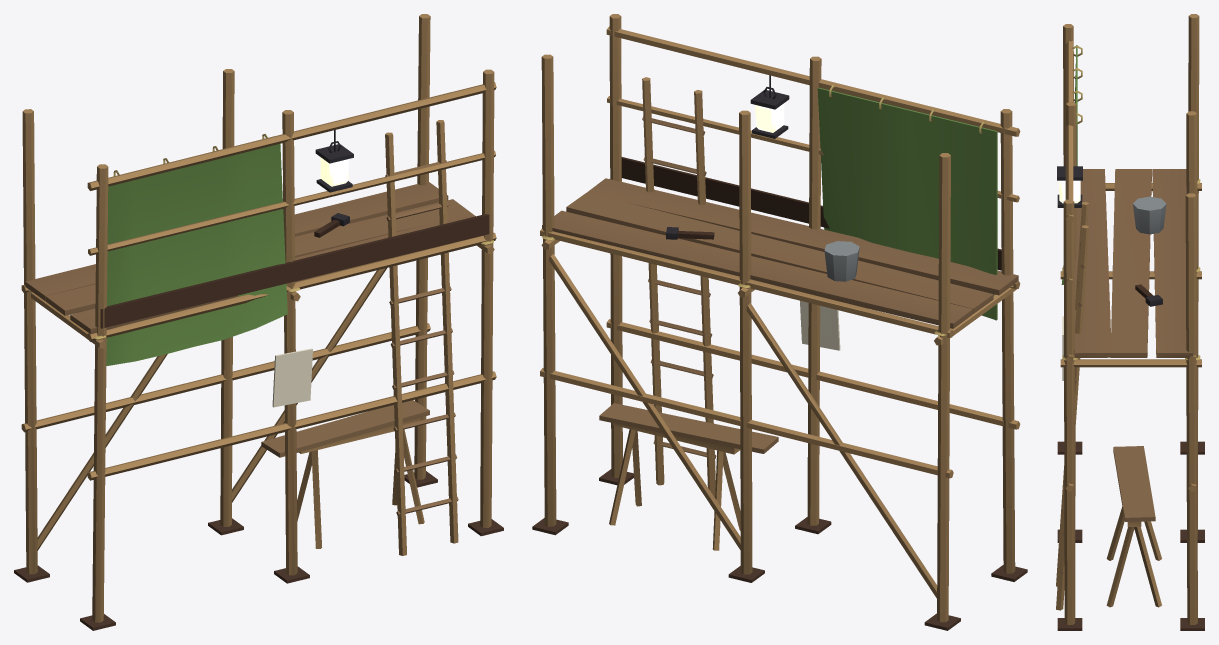
Rendered from scaffold_project.glb.
3 views of the same model, side by side, from view 1: azimuth 30°, elevation 25°; view 2: azimuth 150°, elevation 25°; view 3: azimuth 270°, elevation 25° (orthographic). The views are drawn at different scales.
Visible parts, largest first — view 1: scaffold_project, tarp, glow; view 2: scaffold_project, tarp, glow; view 3: scaffold_project, tarp, glow.
Boxes of the visible parts, x1,y1,x2,y2 form: scaffold_project: (14,14,503,630); tarp: (106,133,287,365); glow: (320,157,348,186); scaffold_project: (532,14,1027,630); tarp: (817,85,997,320); glow: (755,103,784,132); scaffold_project: (1056,14,1204,630); tarp: (1061,45,1082,284); glow: (1059,180,1080,203).
Bounding box in the file's own units: 2.88 × 3.11 × 0.971.
